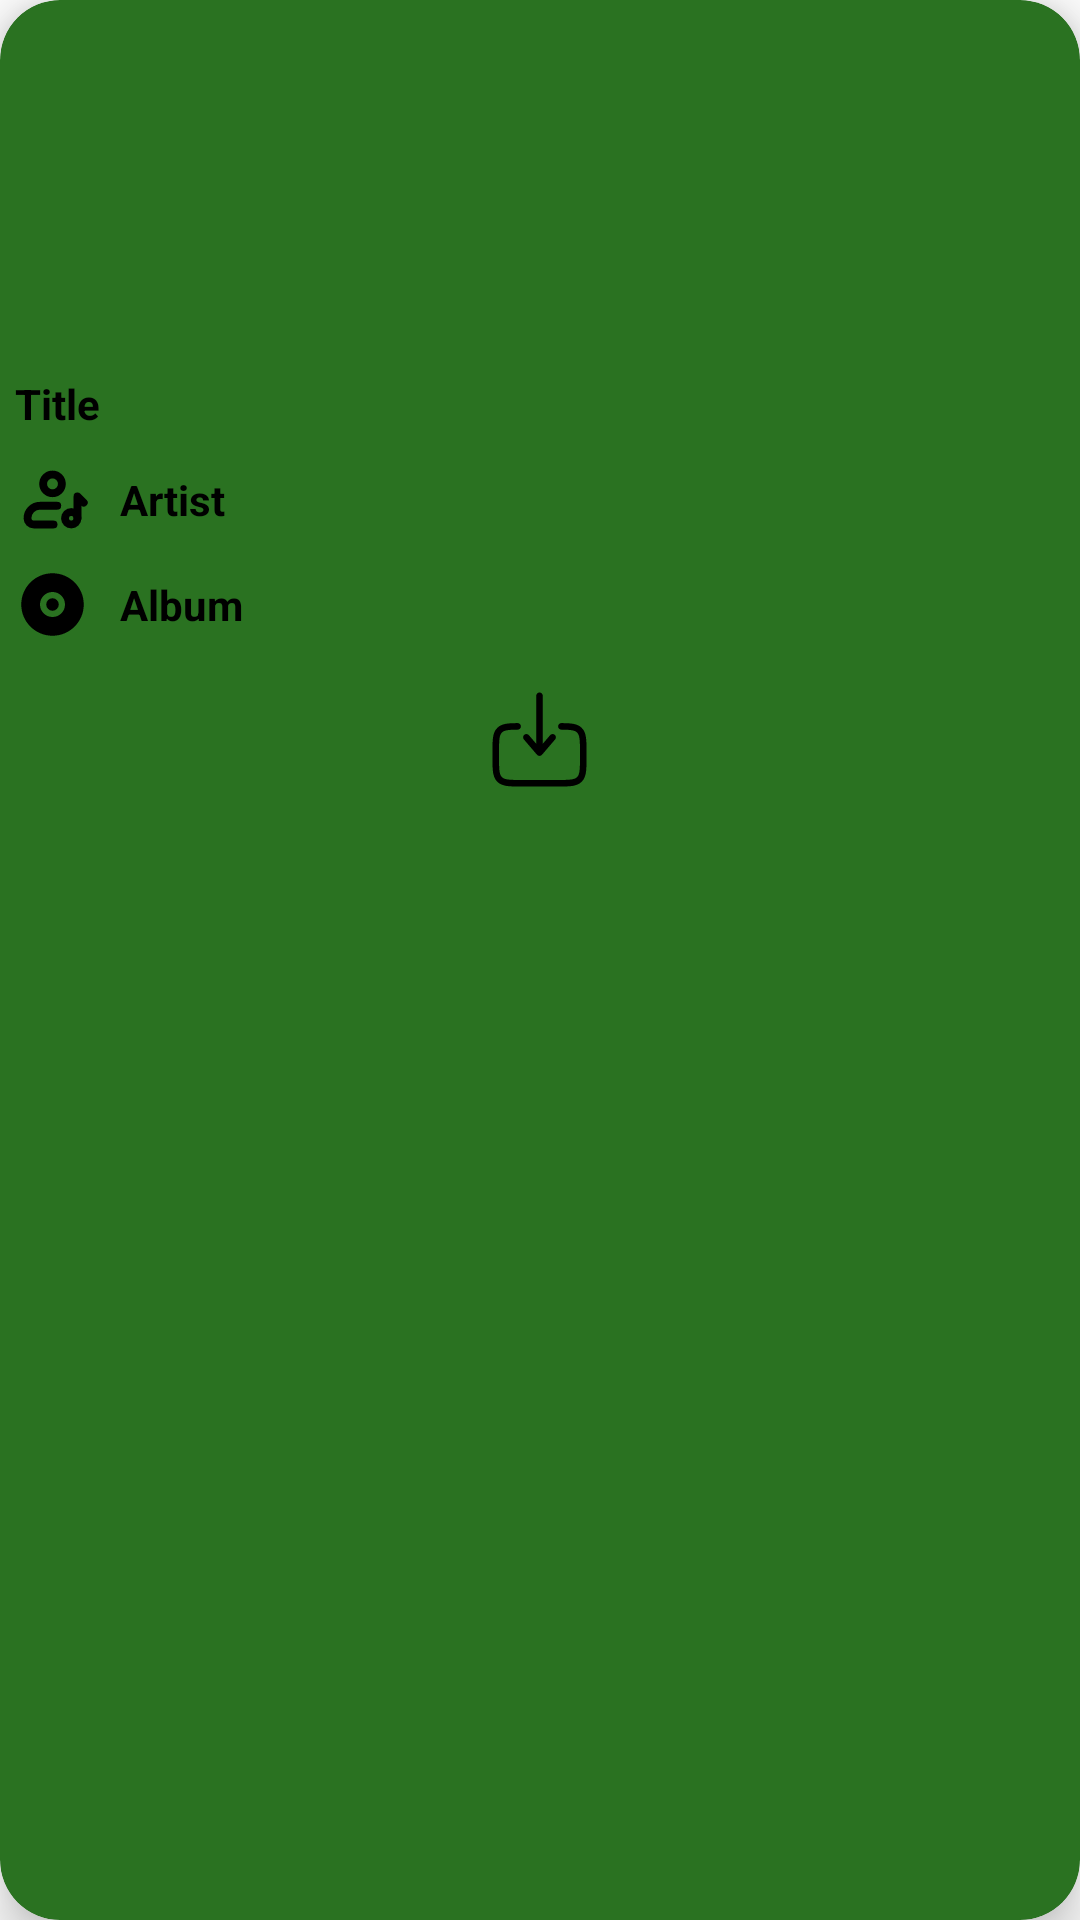

Icons on this 1080x1920 Android screen, each with the point to tap as [x,y]:
download: [539,739]
